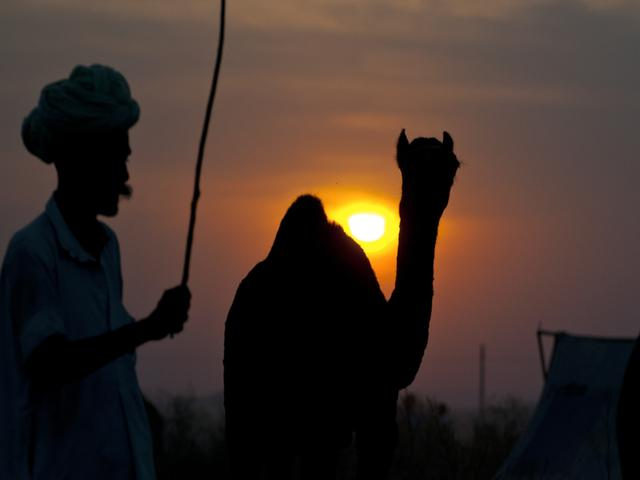camel: (217, 120, 473, 468)
